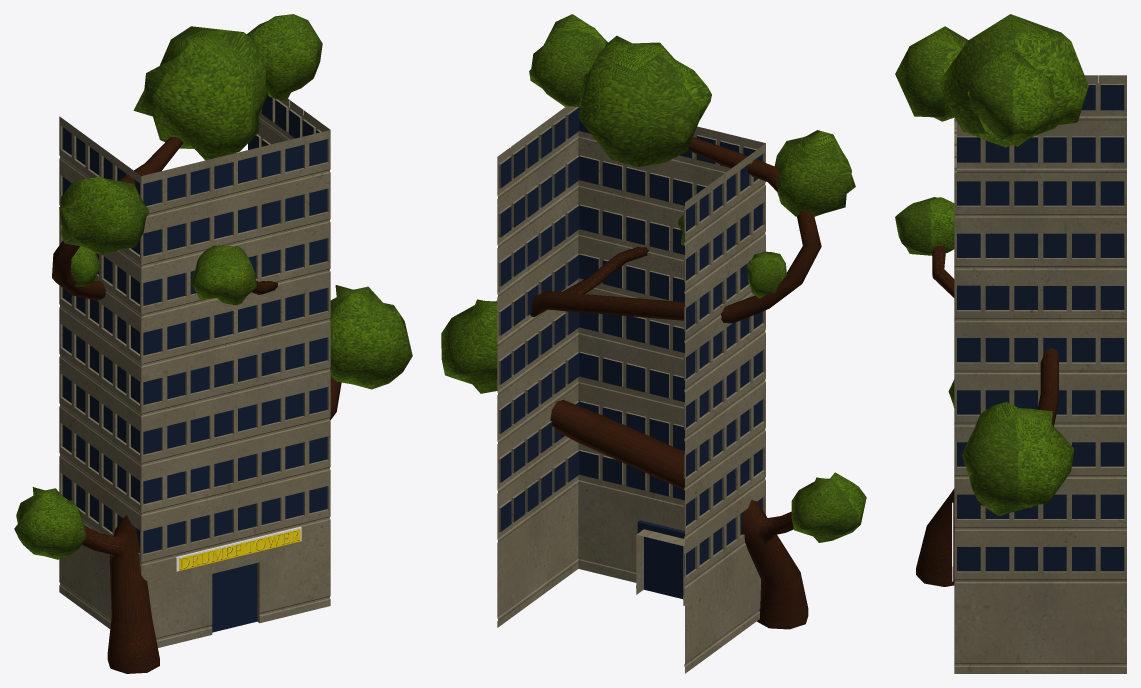
The model's file is drumpftower.fbx.
3 renders of one model, left to right at view 1: azimuth 30°, elevation 25°; view 2: azimuth 150°, elevation 25°; view 3: azimuth 270°, elevation 25°, orthographic. The views are drawn at different scales.
Parts seen in each view (by area): view 1: tower_1, vine_1, tower_door, pCube33; view 2: tower_1, vine_1, tower_door; view 3: tower_1, vine_1.
Boxes of the visible parts, box(x1,y1,x2,y2) form: tower_1: box(59, 95, 330, 647); vine_1: box(14, 14, 412, 673); tower_door: box(212, 563, 257, 632); pCube33: box(176, 526, 301, 571); tower_1: box(497, 107, 765, 673); vine_1: box(441, 14, 866, 629); tower_door: box(637, 520, 684, 598); tower_1: box(954, 75, 1126, 673); vine_1: box(895, 14, 1088, 586).
Size of the model in its own units: 135 by 186 by 63.47.
Materials: 5 (4 with a texture image).
